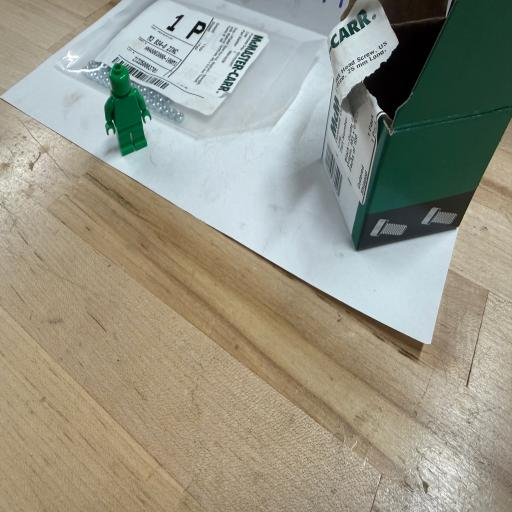Lego-Dude: (104, 63, 151, 155)
